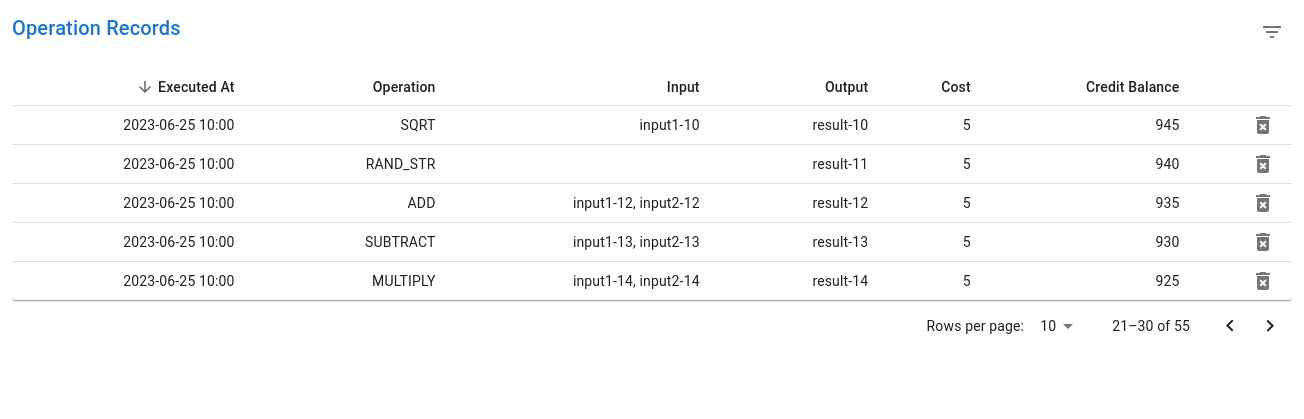
Scenario: OperationRecords component › Records and pagination information is successfully displayed
The image size is (1304, 419).
Click the button named "Filter list" at (1272, 32), box [1252,12,1292,52]
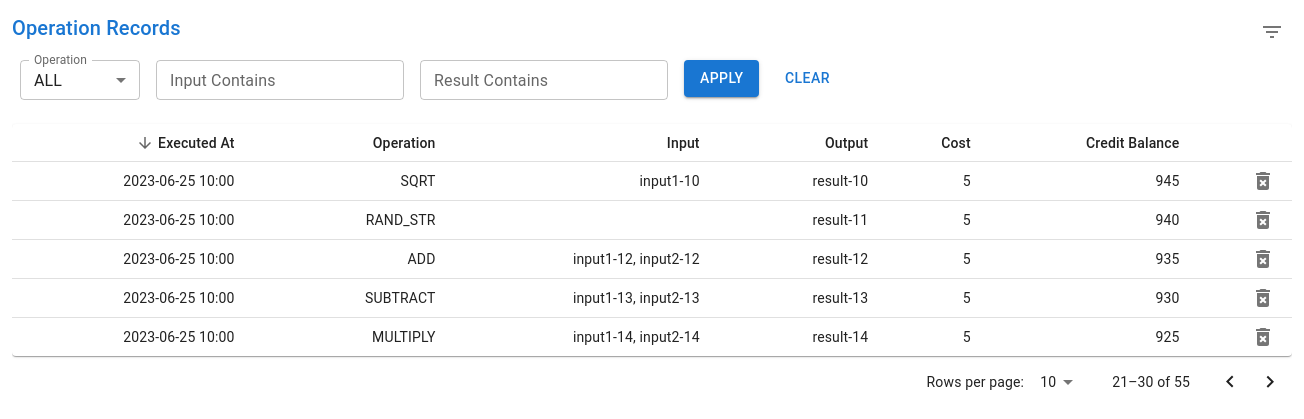
Expected: the column heading with test id "executed-at-header" reads "Executed At", [158,135,235,151]
Now the form with test id "filters-form" is shown, box [20,52,839,100]
Now the submit button reads "Apply", box [684,60,759,96]
